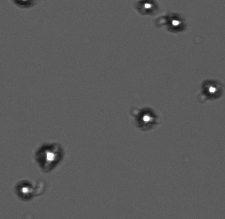Living Cell: (35, 142, 65, 170), (134, 104, 158, 131), (201, 77, 222, 100), (15, 179, 35, 200), (166, 11, 186, 32), (139, 1, 157, 15)
